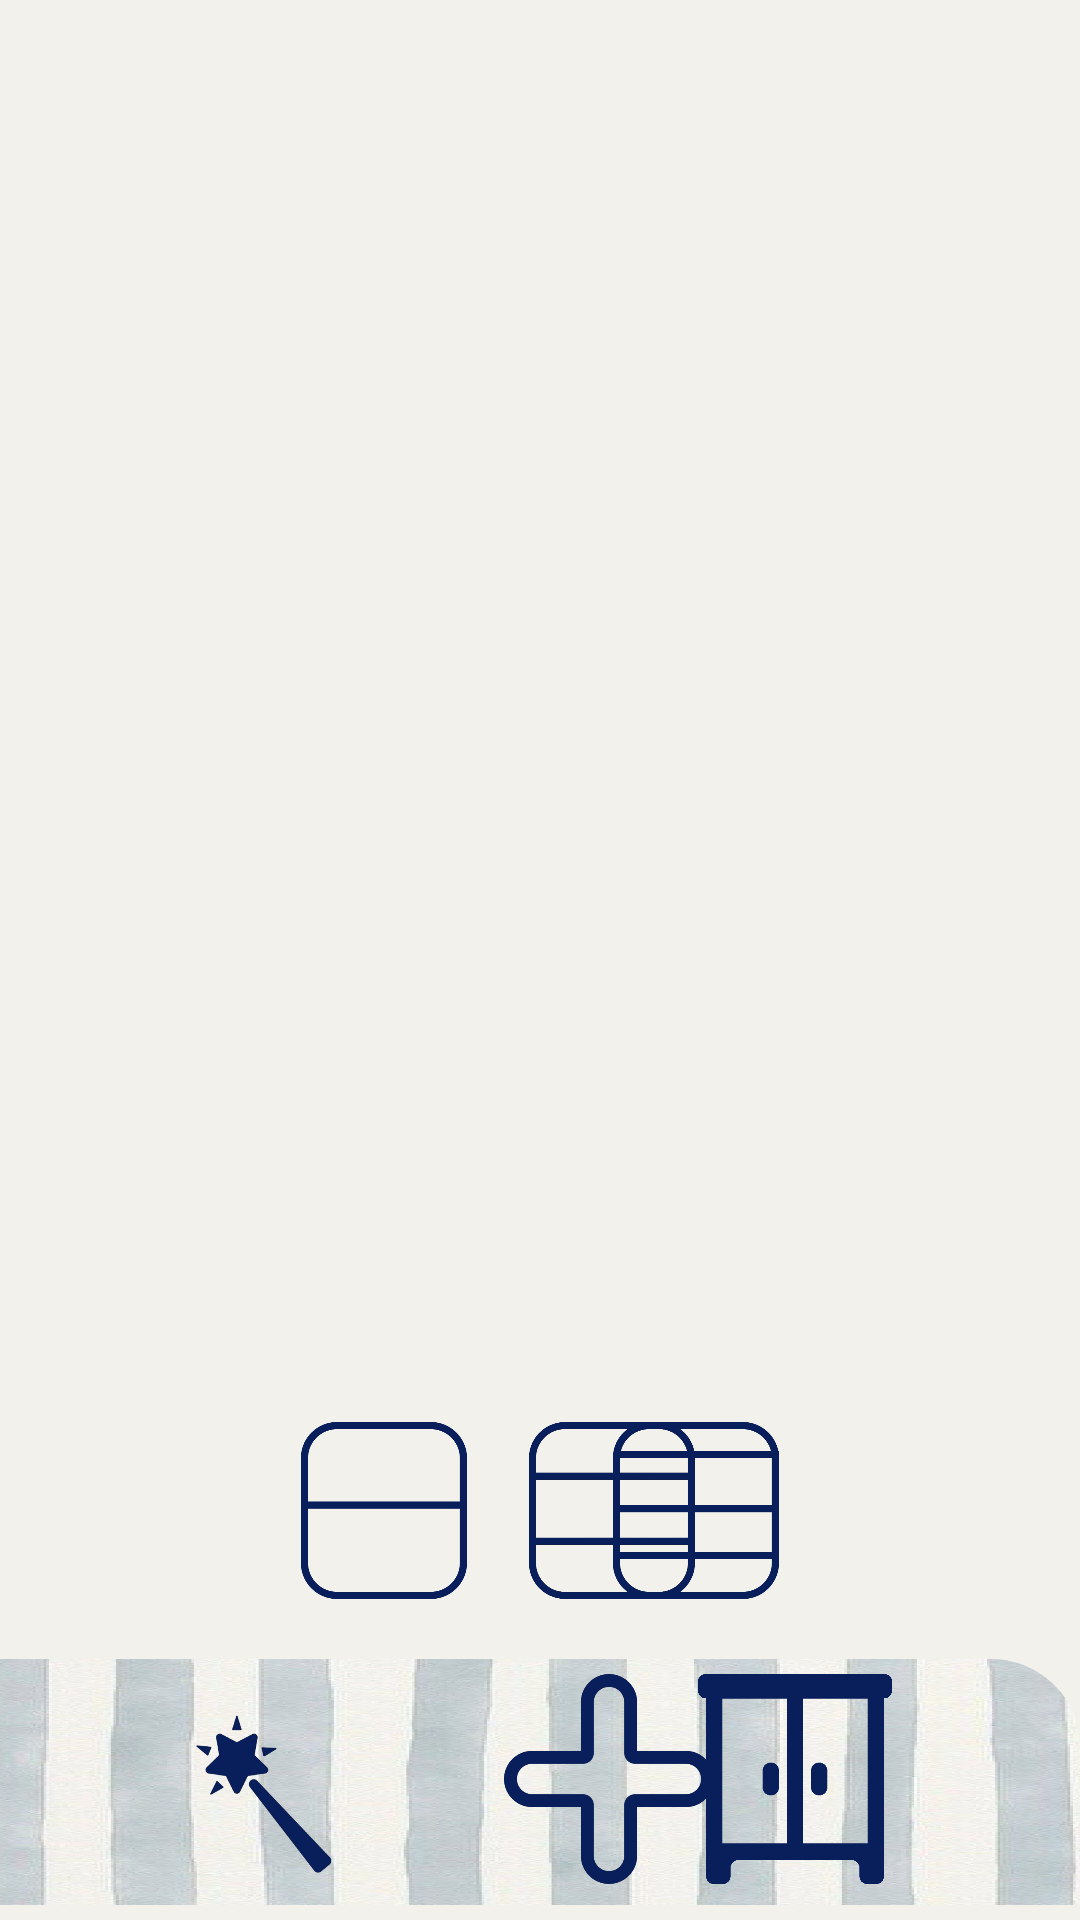

Point at icon controls on the screen. Image size 1080x1920, points as (x=x, y=y).
plus: (x=609, y=1779)
wardrobe: (x=795, y=1779)
